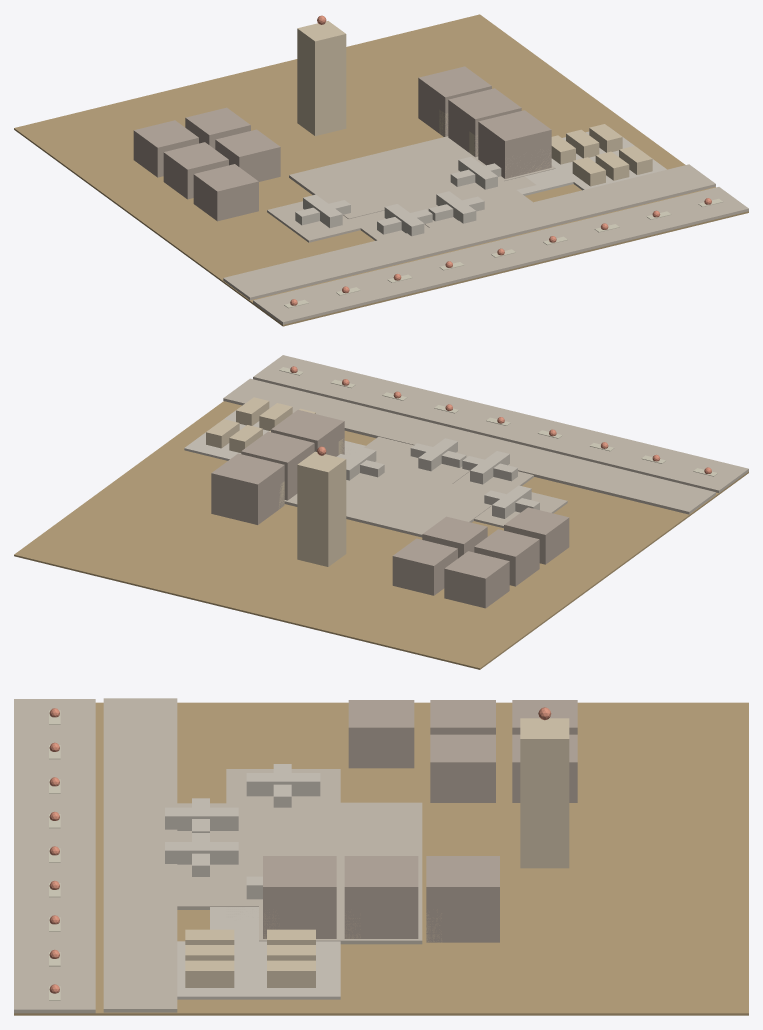
The model's file is stage_21.glb.
3 views of the same model, one above another, from view 1: azimuth 30°, elevation 25°; view 2: azimuth 150°, elevation 25°; view 3: azimuth 270°, elevation 25° (orthographic). The views are drawn at different scales.
Visible parts, largest first — view 1: geometry_0; view 2: geometry_0; view 3: geometry_0.
Boxes of the visible parts, <box> form: geometry_0: <box>14,14,748,326</box>; geometry_0: <box>14,355,748,669</box>; geometry_0: <box>14,698,748,1015</box>.
Bounding box in the file's own units: 9 × 2.06 × 9.
